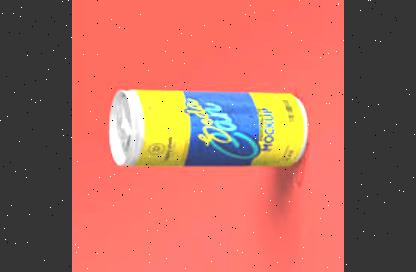Can: (107, 91, 307, 167)
